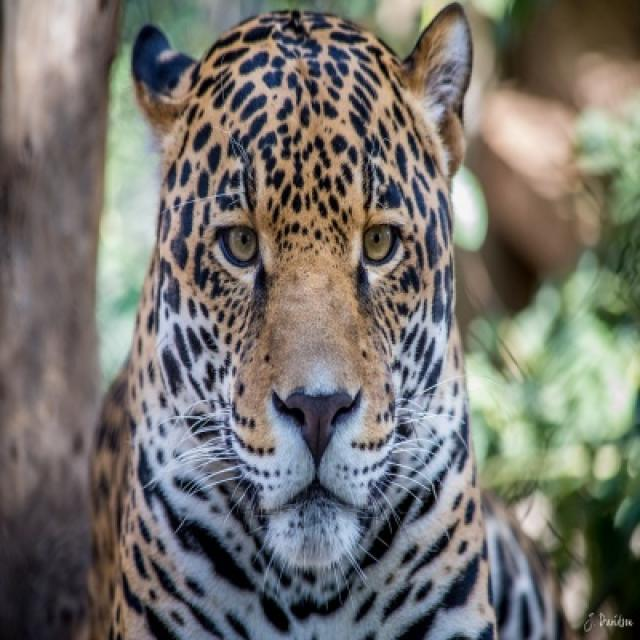Jaguar: (82, 5, 549, 638)
